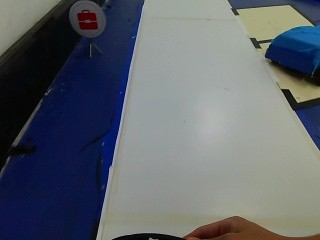company: (68, 4, 107, 40)
